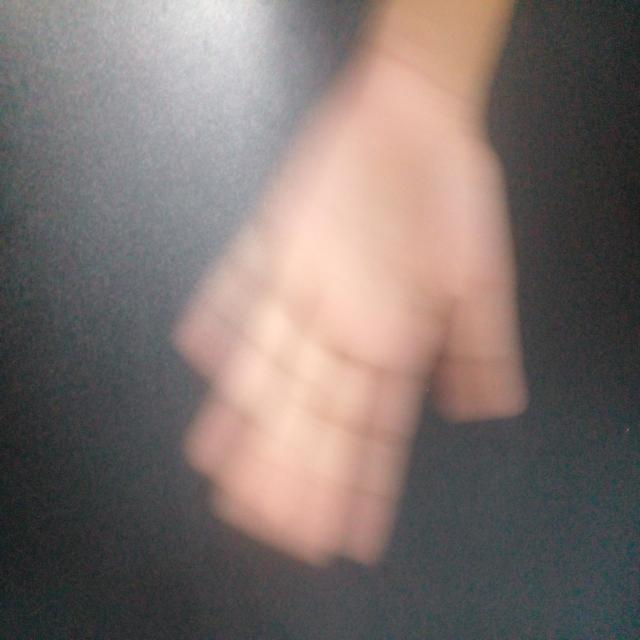Open Hand: (157, 51, 534, 572)
